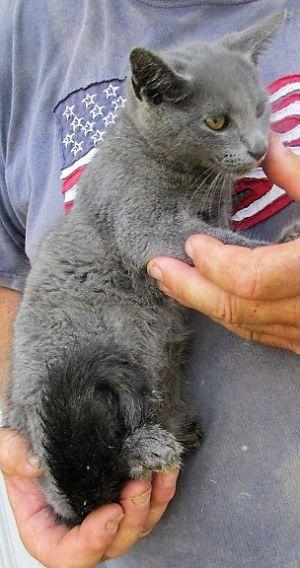rblue: (111, 18, 288, 211)
